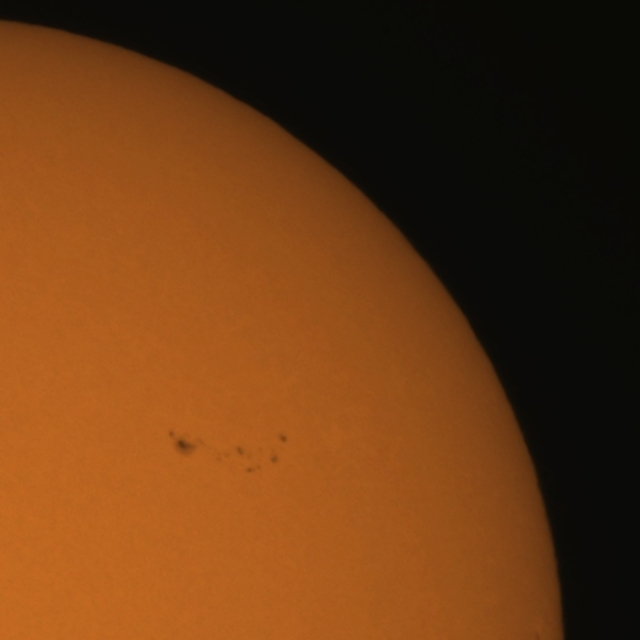sunspot: (230, 444, 275, 474), (166, 428, 205, 457), (277, 433, 288, 445)
